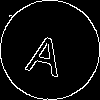A: (25, 25, 69, 77)
